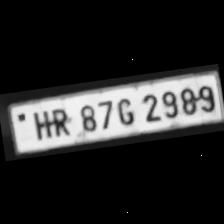2: (136, 88, 162, 124)
7: (94, 96, 116, 130)
8: (72, 99, 98, 134), (177, 83, 199, 116)
9: (195, 79, 220, 114), (156, 86, 180, 118)
G: (110, 92, 136, 126)
H: (30, 106, 60, 140)
R: (41, 102, 74, 138)
